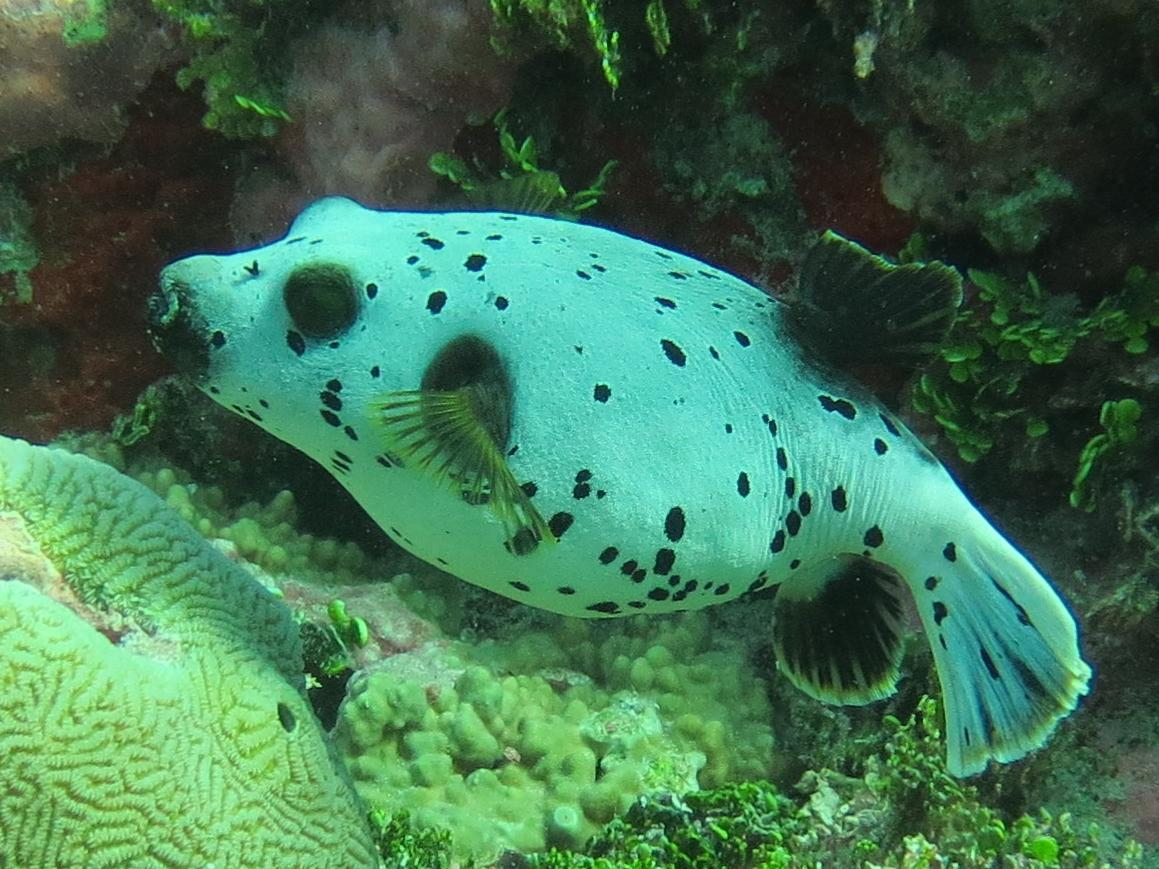Fish: (65, 116, 1111, 802)
